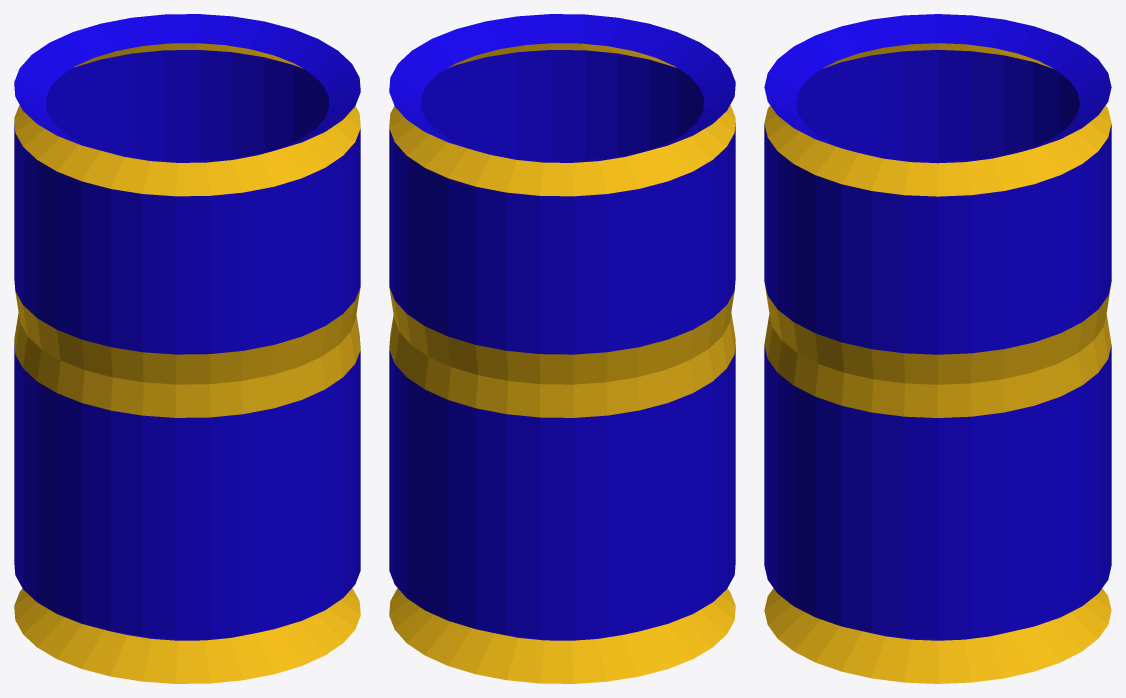
File: cuboazul1.glb
The picture shows the model from 3 angles, left to right: view 1: azimuth 30°, elevation 25°; view 2: azimuth 150°, elevation 25°; view 3: azimuth 270°, elevation 25°; orthographic projection.
Visible parts, largest first — view 1: Cylinder.003; view 2: Cylinder.003; view 3: Cylinder.003.
Part boxes in pixels (bbox=[...]): Cylinder.003: bbox=[14, 14, 360, 683]; Cylinder.003: bbox=[389, 14, 735, 683]; Cylinder.003: bbox=[764, 14, 1111, 683].
Bounding box in the file's own units: 1.81 × 3 × 1.81.
